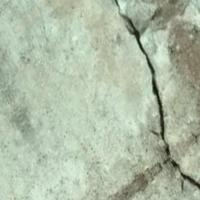crack: (105, 0, 199, 199)
